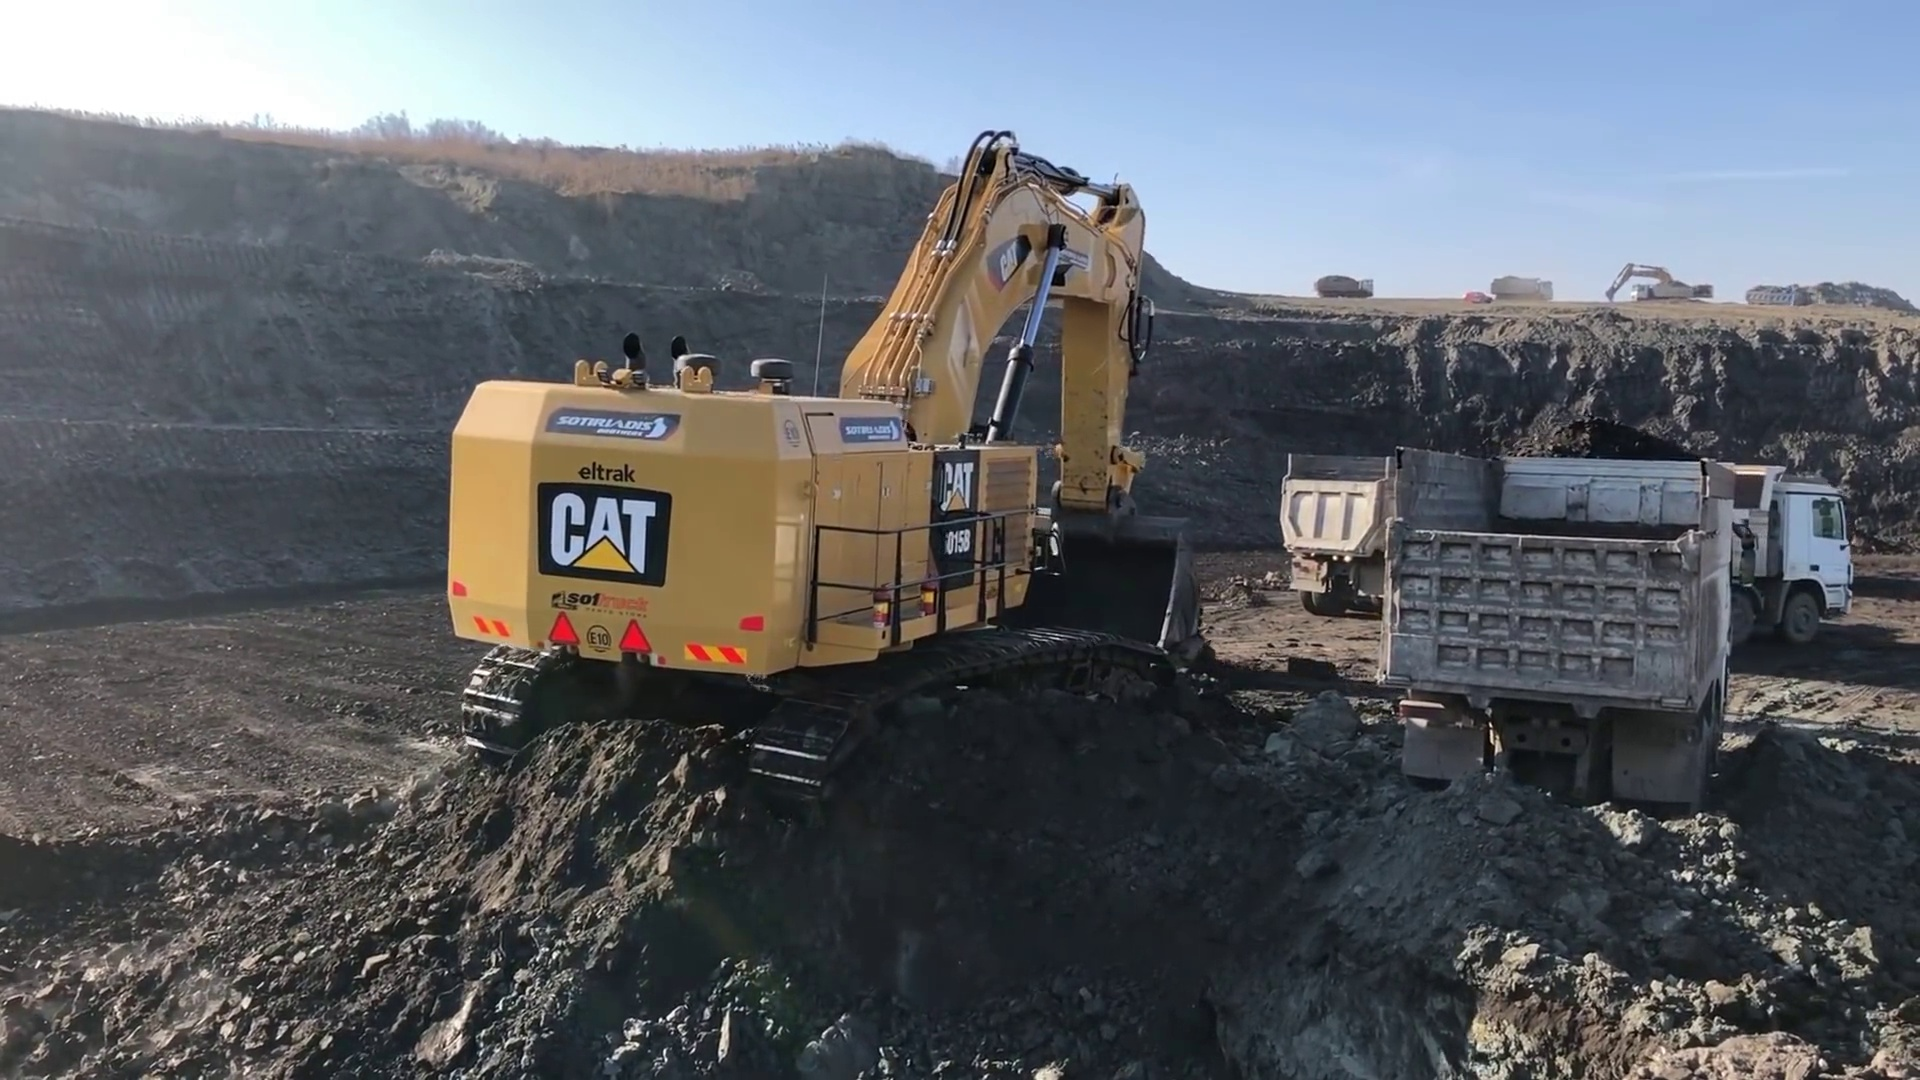excavator: (423, 124, 1209, 829), (1601, 260, 1717, 313)
truck: (1394, 425, 1738, 807), (1557, 462, 1851, 669), (1280, 462, 1542, 618), (1309, 268, 1385, 301), (1491, 274, 1556, 306)
